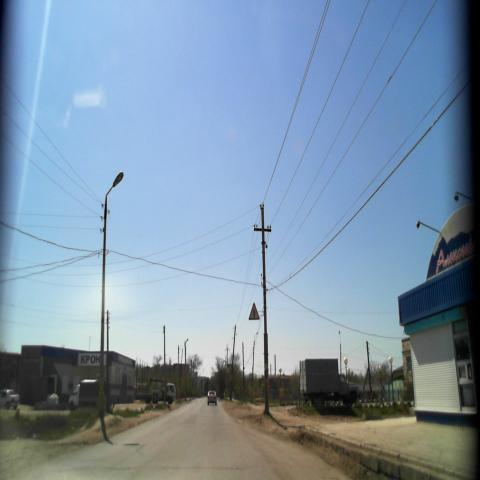2_3_2: (248, 302, 260, 320)
